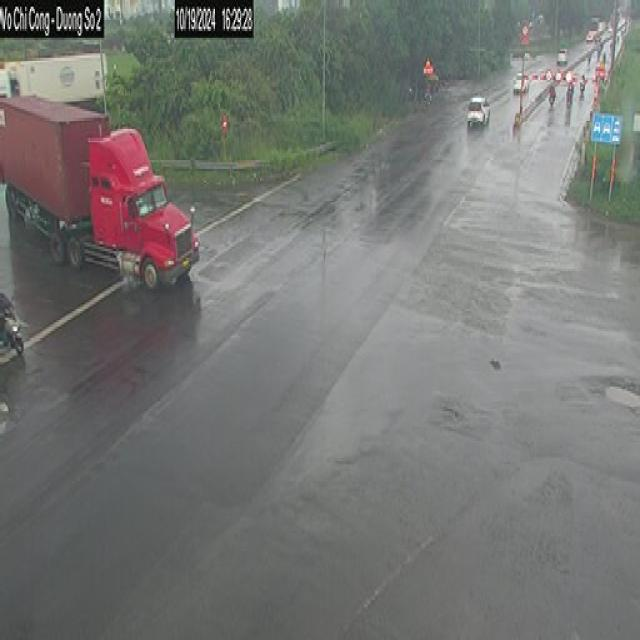car: (464, 86, 489, 136), (505, 66, 528, 95), (557, 46, 570, 70)
container-truck: (13, 80, 201, 292), (2, 54, 116, 104)
motorcycle: (540, 86, 558, 112), (564, 88, 574, 108), (578, 81, 590, 97)
person: (563, 81, 575, 97), (580, 74, 589, 95), (546, 82, 556, 94)
